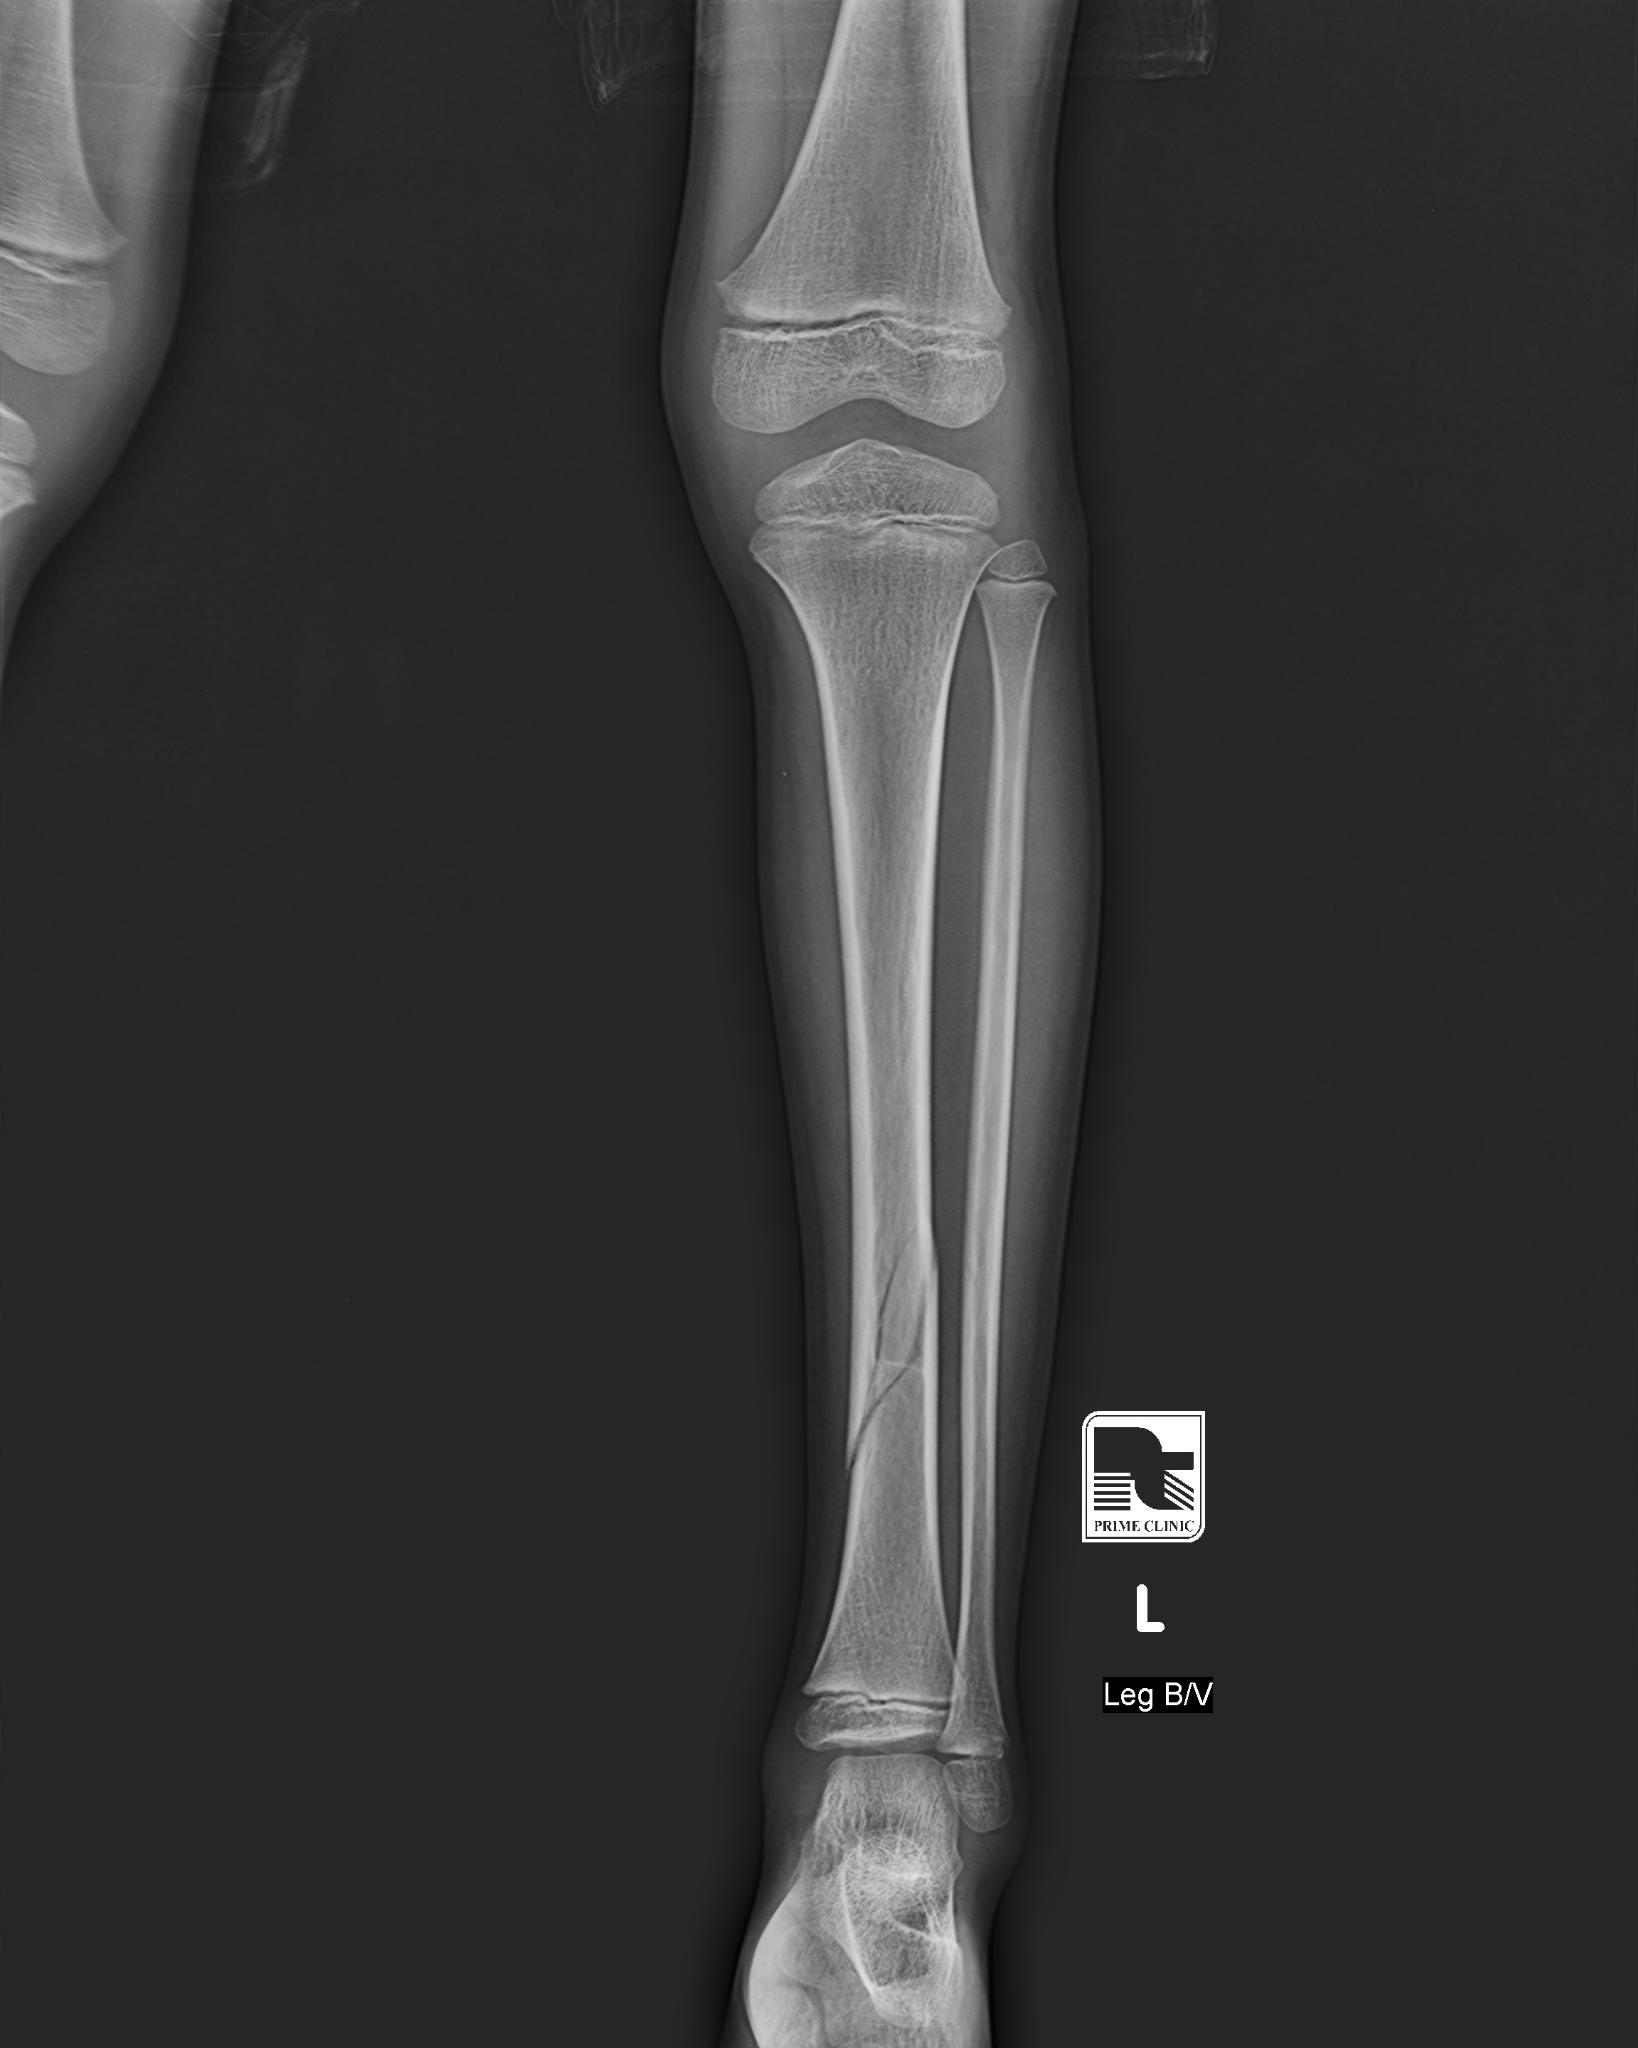fractured: (841, 1237, 948, 1498)
